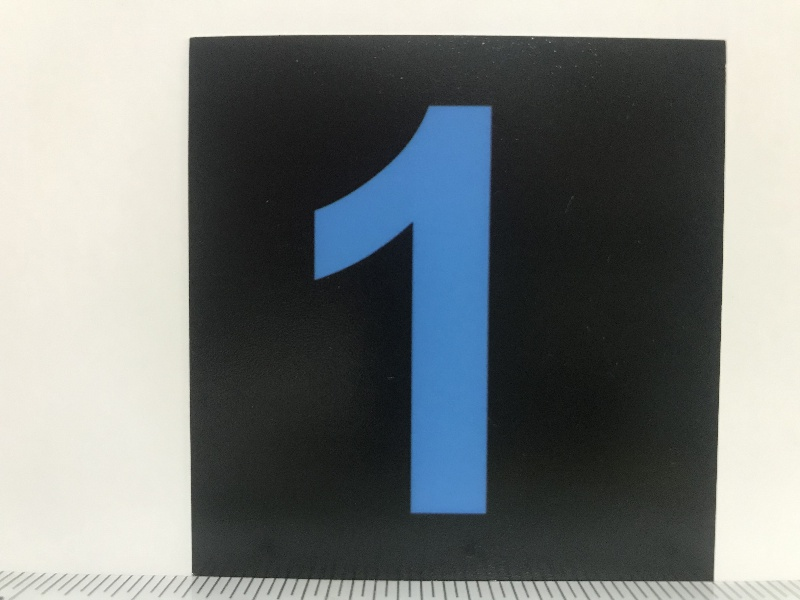One-6: (195, 40, 710, 574)
